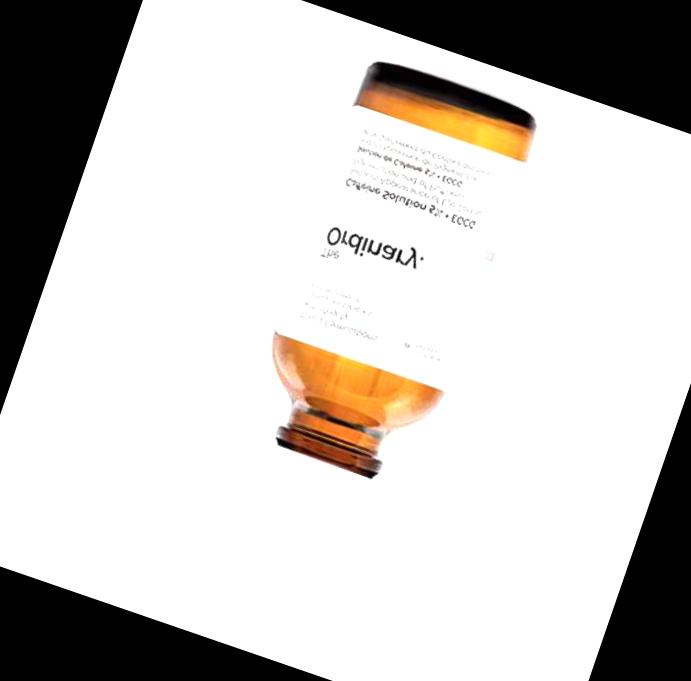cosmetic: (178, 56, 543, 660)
